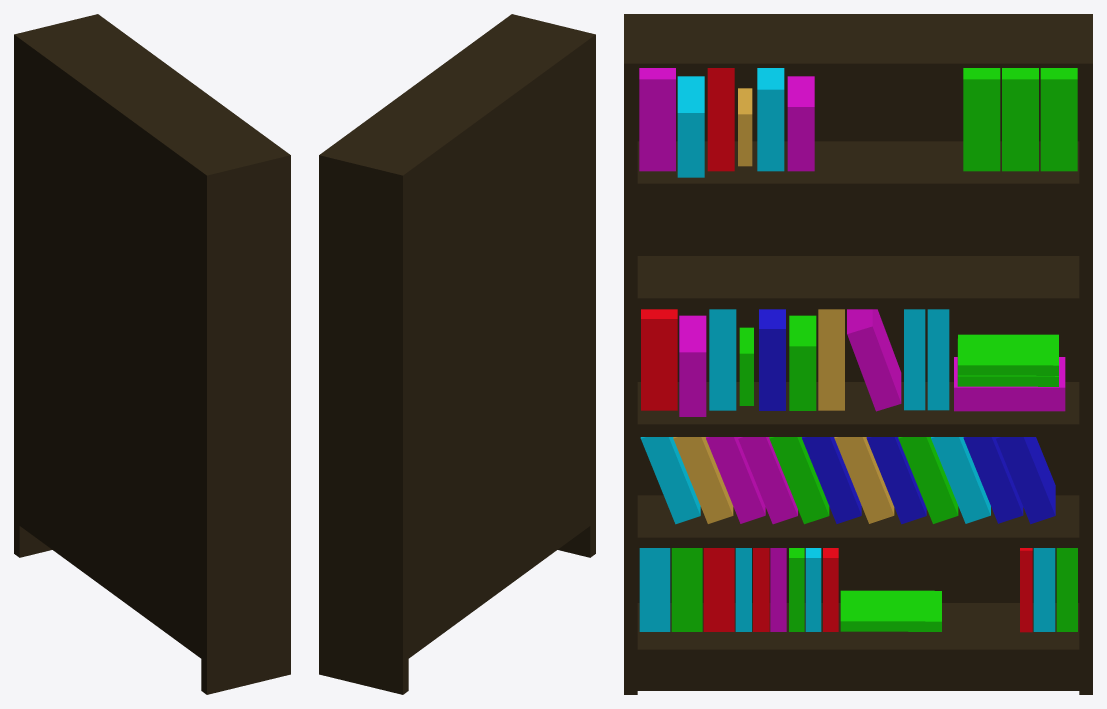
Rendered from Bookshelf.fbx.
3 views of the same model, side by side, from view 1: azimuth 30°, elevation 25°; view 2: azimuth 150°, elevation 25°; view 3: azimuth 270°, elevation 25° (orthographic). The views are drawn at different scales.
Parts seen in each view (by area): view 1: Cube; view 2: Cube; view 3: Cube, Cube.006.
Part boxes in pixels (left/top/right/bottom): Cube: left=14, top=14, right=290, bottom=694; Cube: left=319, top=14, right=595, bottom=694; Cube: left=624, top=14, right=1092, bottom=694; Cube.006: left=639, top=68, right=1077, bottom=632.
Size of the model in its own units: 200 by 1183 by 796.
